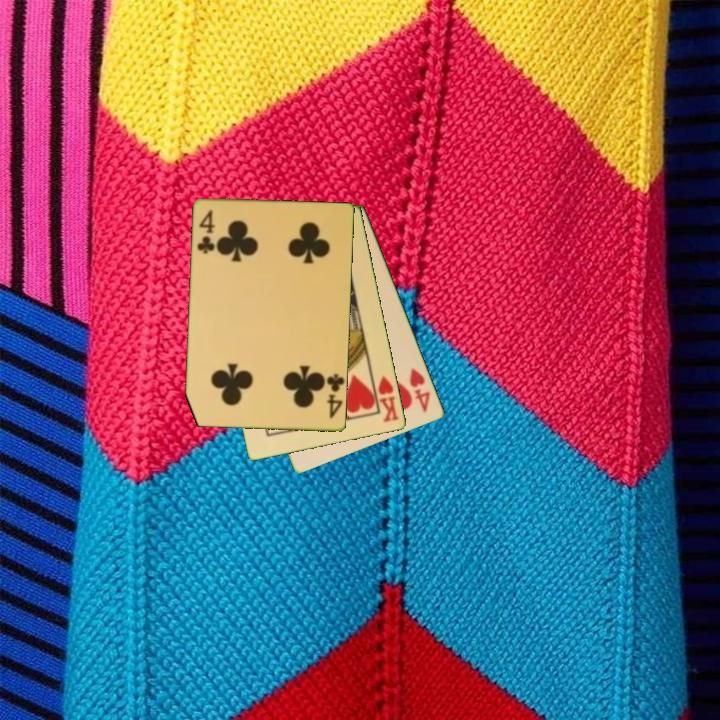4c: (194, 207, 218, 257), (324, 370, 346, 422)
4h: (406, 365, 433, 415)
Kh: (369, 371, 402, 425)
